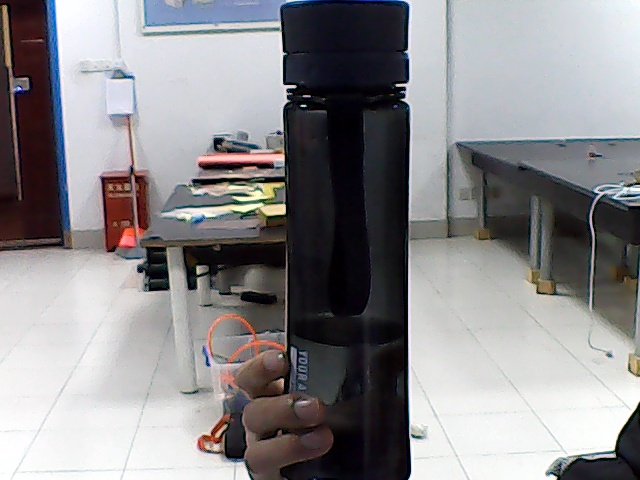cup: (288, 24, 406, 400)
